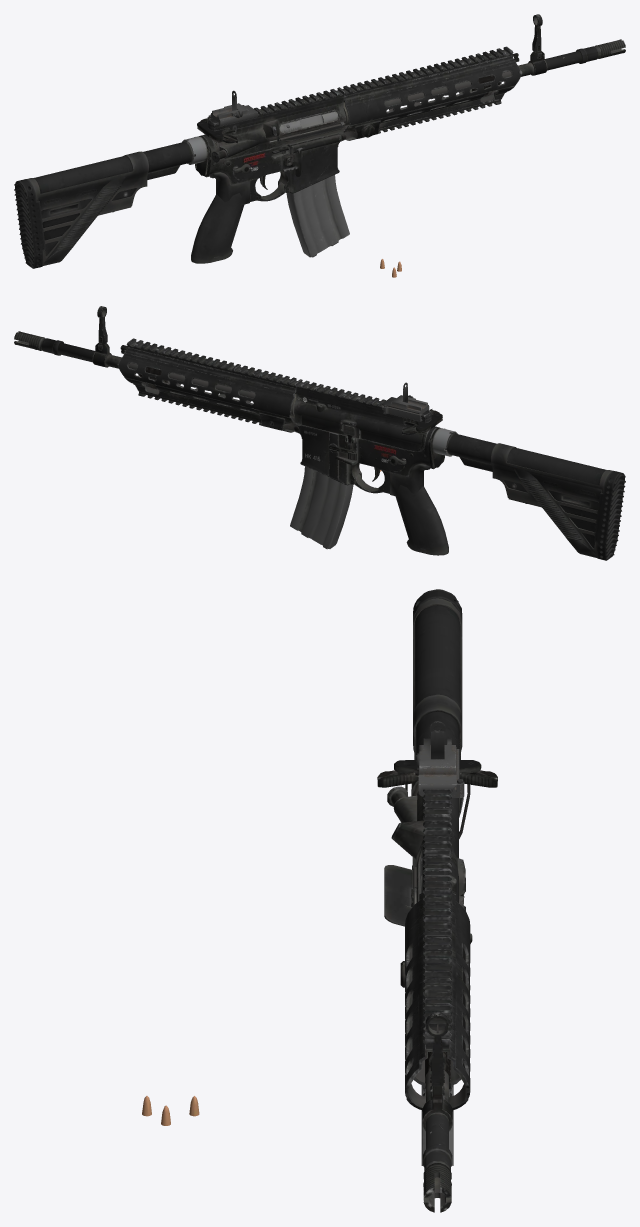
3 views of the same model, one above another, from view 1: azimuth 30°, elevation 25°; view 2: azimuth 150°, elevation 25°; view 3: azimuth 270°, elevation 25° (orthographic). The views are drawn at different scales.
Parts seen in each view (by area): view 1: Upper_reciever_low_Low_0, Upper_reciever_low_Sights_0; view 2: Upper_reciever_low_Low_0, Upper_reciever_low_Sights_0; view 3: Upper_reciever_low_Low_0, Upper_reciever_low_Sights_0.
Boxes of the visible parts, x1=… form: Upper_reciever_low_Low_0: x1=14, y1=14, x2=625, y2=277; Upper_reciever_low_Sights_0: x1=208, y1=90, x2=257, y2=126; Upper_reciever_low_Low_0: x1=14, y1=306, x2=625, y2=560; Upper_reciever_low_Sights_0: x1=382, y1=382, x2=429, y2=421; Upper_reciever_low_Low_0: x1=142, y1=589, x2=497, y2=1212; Upper_reciever_low_Sights_0: x1=416, y1=721, x2=464, y2=797.
Size of the model in its own units: 0.8999 by 0.2625 by 0.2299.
2 materials, 2 textured.
